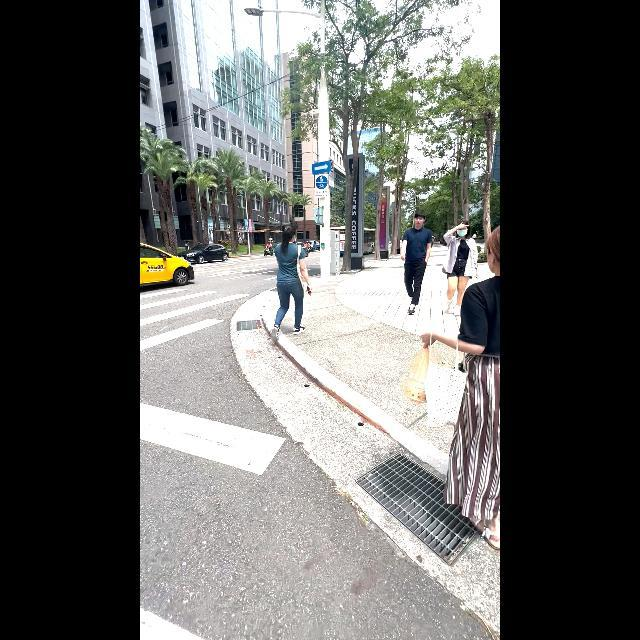sidewalk: (141, 401, 286, 640)
